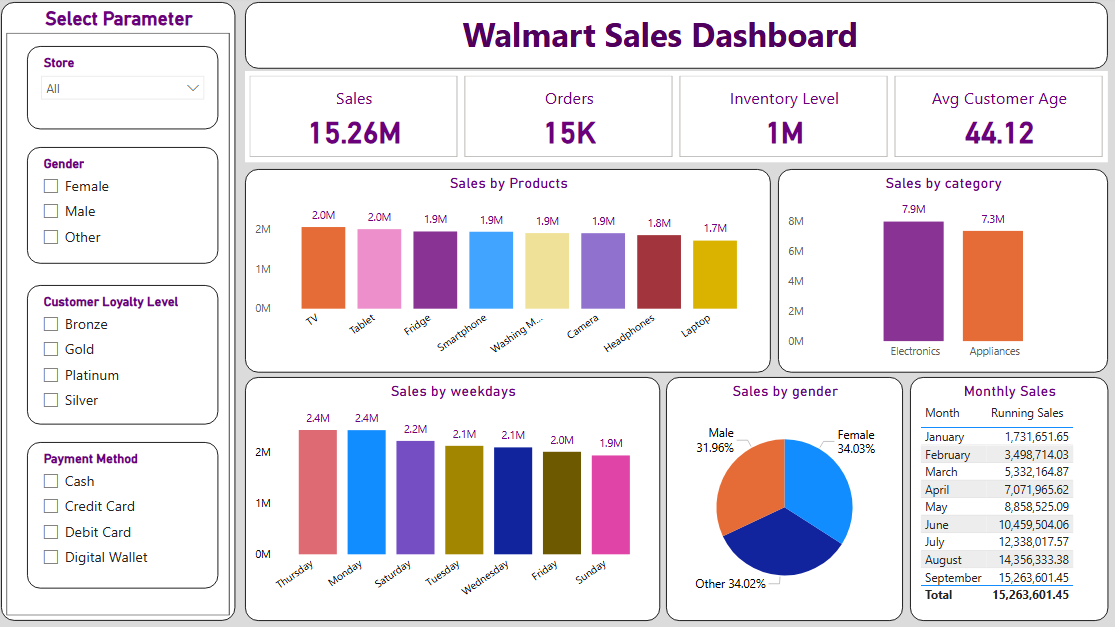

Layout of this report page (visuals, bound fields, positions):
{"tool":"powerbi","page":{"name":"Page 1","canvas":[1280,720],"ordinal":0},"visuals":[{"type":"textbox","box":[288.2,5.7,983.2,76.3],"z":0},{"type":"cardVisual","fields":{"Data":["Sum(Walmart.Sales)","Sum(Walmart.quantity_sold)","Sum(Walmart.inventory_level)","Avg(Walmart.customer_age)"]},"box":[288.2,84.3,983.2,103.7],"z":1000},{"type":"clusteredColumnChart","title":"Sales by category","fields":{"Y":["Sum(Walmart.Sales)"],"Category":["Walmart.category"]},"box":[895.4,195.9,375.9,232.4],"z":2000},{"type":"clusteredColumnChart","title":"Sales by Products","fields":{"Y":["Sum(Walmart.Sales)"],"Category":["Walmart.product_name"]},"box":[288.2,195.9,599.2,232.4],"z":3000},{"type":"tableEx","title":"Monthly Sales","fields":{"Values":["Walmart.transaction_date.Variation.Date Hierarchy.Month","Walmart.Running Sales"]},"box":[1045.8,432.9,225.6,278],"z":4000},{"type":"clusteredColumnChart","title":"Sales by weekdays","fields":{"Y":["Sum(Walmart.Sales)"],"Category":["Walmart.weekday"]},"box":[288.2,432.9,472.8,278],"z":5000},{"type":"pieChart","title":"Sales by gender","fields":{"Y":["Sum(Walmart.Sales)"],"Category":["Walmart.customer_gender"]},"box":[767.8,432.9,270,278],"z":6000},{"type":"shape","title":"Select Parameter","box":[10.3,5.7,266.6,705.2],"z":7000},{"type":"slicer","fields":{"Values":["Walmart.store_location"]},"box":[39.9,55.8,217.6,94.6],"z":8000},{"type":"slicer","fields":{"Values":["Walmart.customer_gender"]},"box":[39.9,170.9,217.6,133.3],"z":9000},{"type":"slicer","fields":{"Values":["Walmart.customer_loyalty_level"]},"box":[39.9,328.1,217.6,159.5],"z":10000},{"type":"slicer","fields":{"Values":["Walmart.payment_method"]},"box":[39.9,507,217.6,167.5],"z":11000}]}

Visuals, with their boxes in screenshot pixels (x1, y1, x2, y2), scaled from the page's 1280x720 canvas onto the 1115x627 screenshot:
textbox: box=[251, 5, 1108, 71]
cardVisual - Sum(Walmart.Sales) x Sum(Walmart.quantity_sold): box=[251, 73, 1108, 164]
"Sales by category" clusteredColumnChart: box=[780, 171, 1107, 373]
"Sales by Products" clusteredColumnChart: box=[251, 171, 773, 373]
"Monthly Sales" tableEx: box=[911, 377, 1108, 619]
"Sales by weekdays" clusteredColumnChart: box=[251, 377, 663, 619]
"Sales by gender" pieChart: box=[669, 377, 904, 619]
"Select Parameter" shape: box=[9, 5, 241, 619]
slicer - Walmart.store_location: box=[35, 49, 224, 131]
slicer - Walmart.customer_gender: box=[35, 149, 224, 265]
slicer - Walmart.customer_loyalty_level: box=[35, 286, 224, 425]
slicer - Walmart.payment_method: box=[35, 442, 224, 587]
